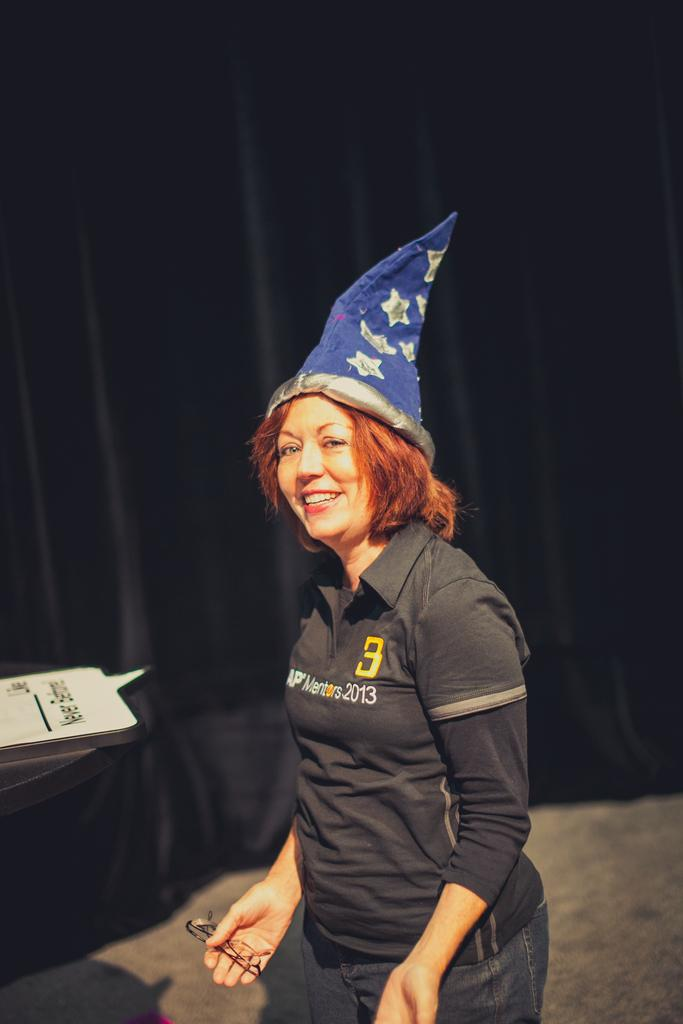Hat: (262, 214, 454, 468)
